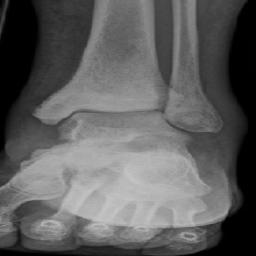cancer: (158, 73, 219, 134)
